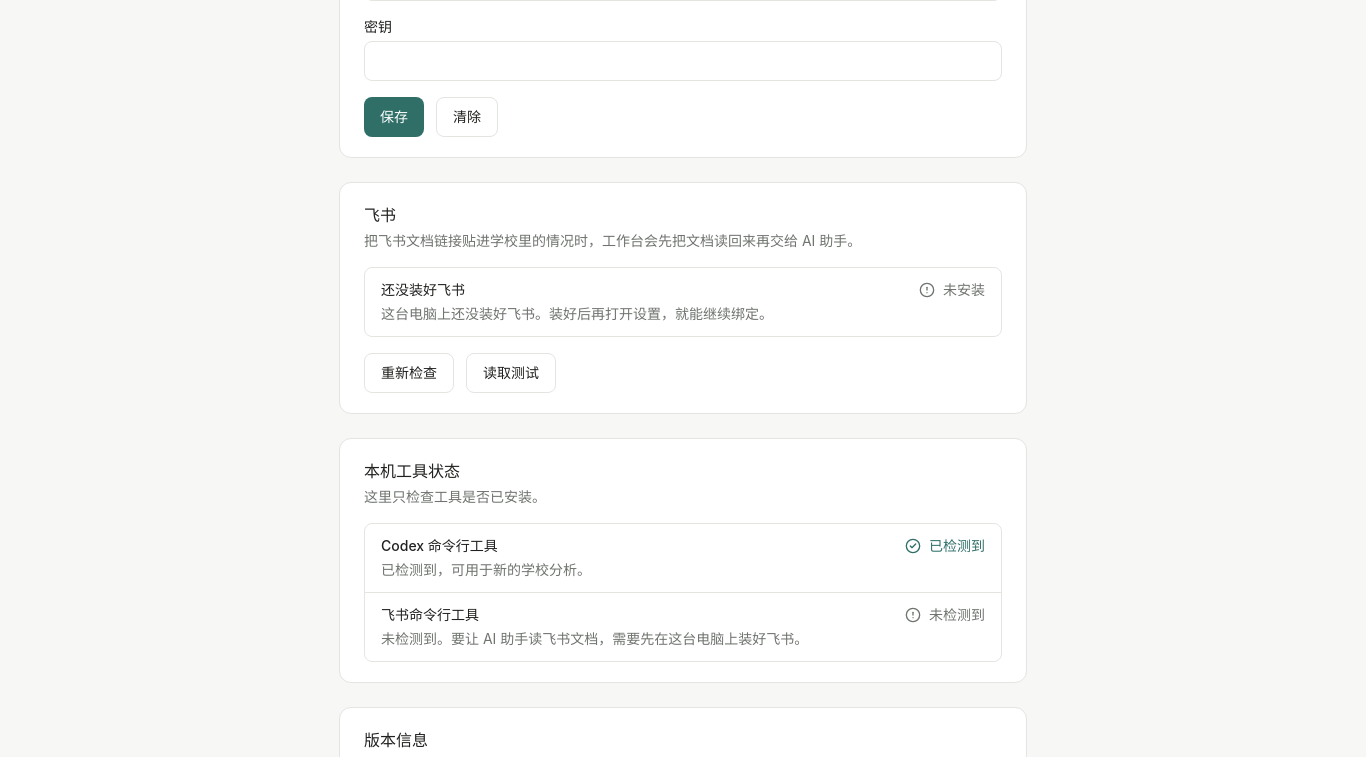
Test: the Feishu block in settings › reads a pasted link and says the title
The width and height of the screenshot is (1366, 757).
(page scrolled)
Click the button "读取测试": click(511, 373) [466, 353, 556, 393]
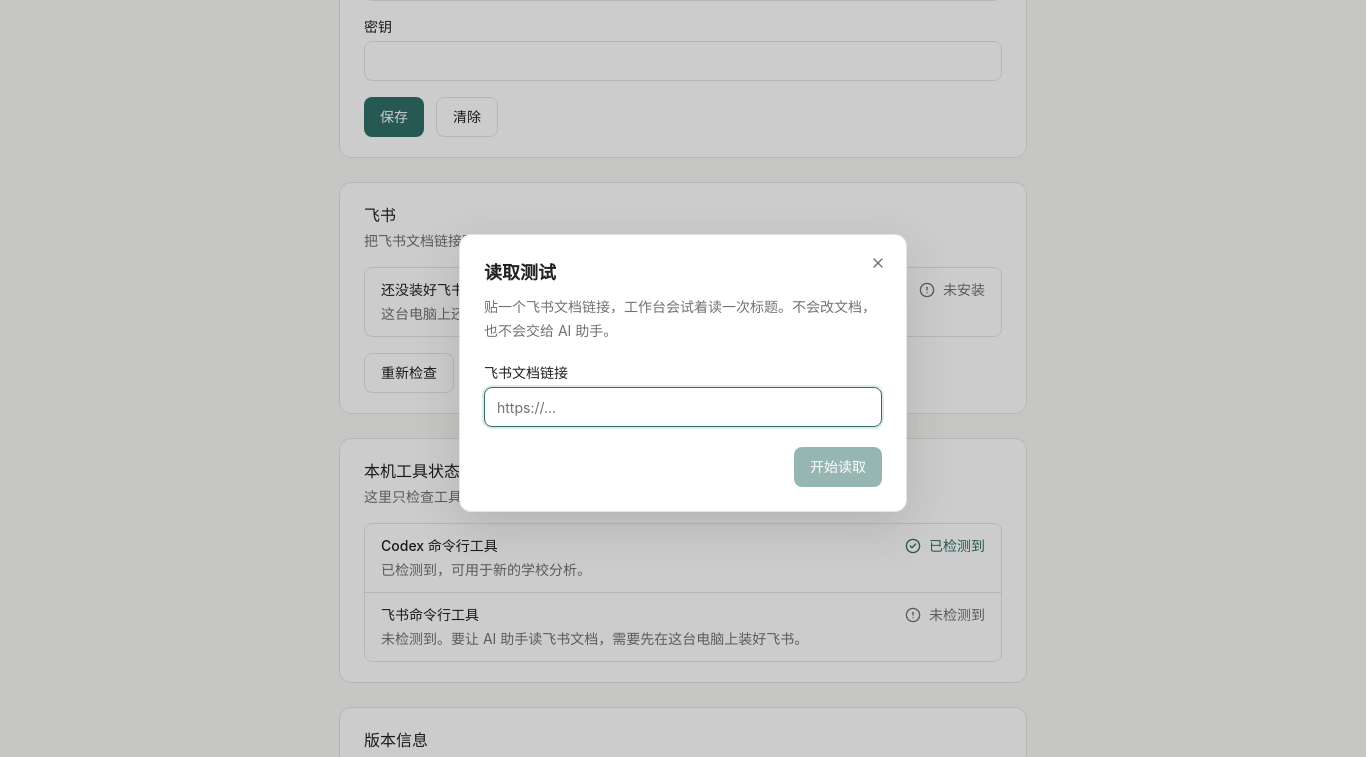
In the field labelled "飞书文档链接": (683, 407) [484, 387, 882, 427], type "https://sample.feishu.cn/docx/Abc"
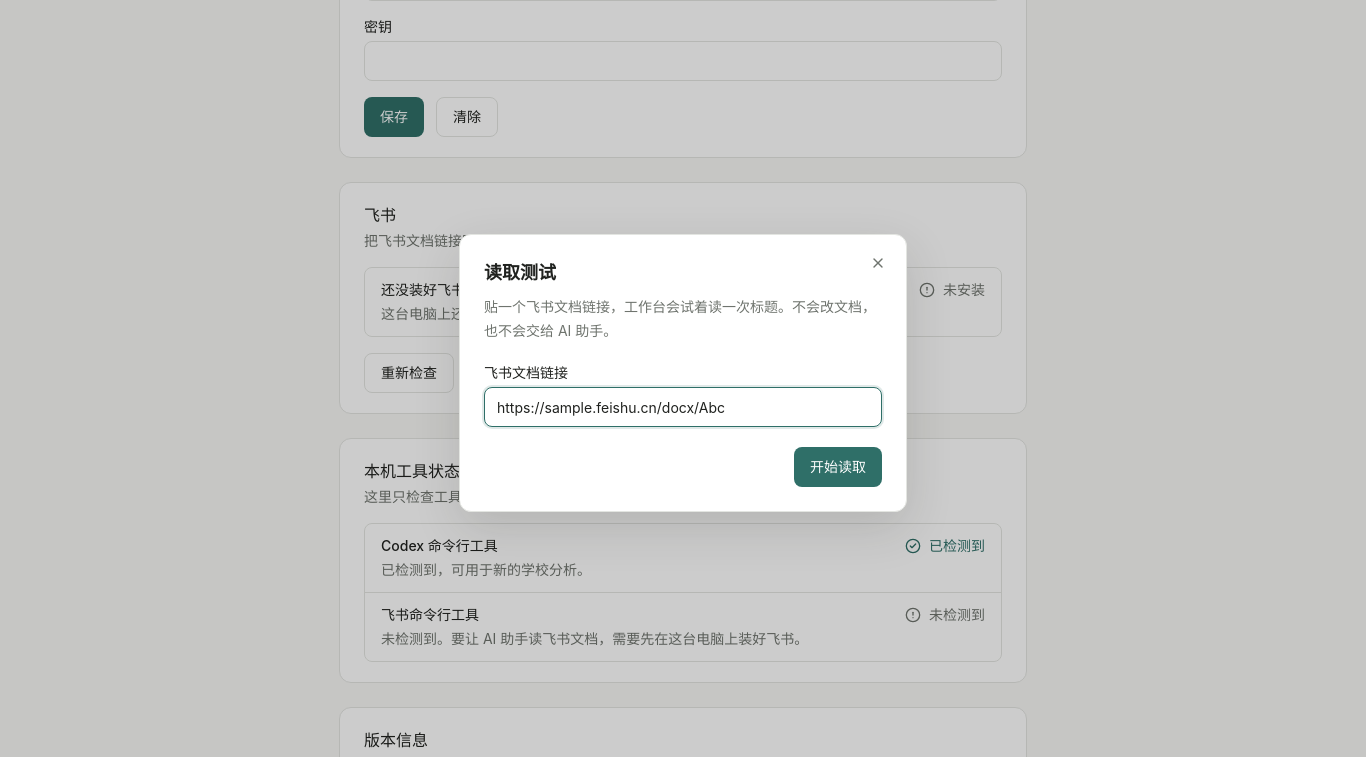
Click the button "开始读取": click(838, 467) [794, 447, 882, 487]
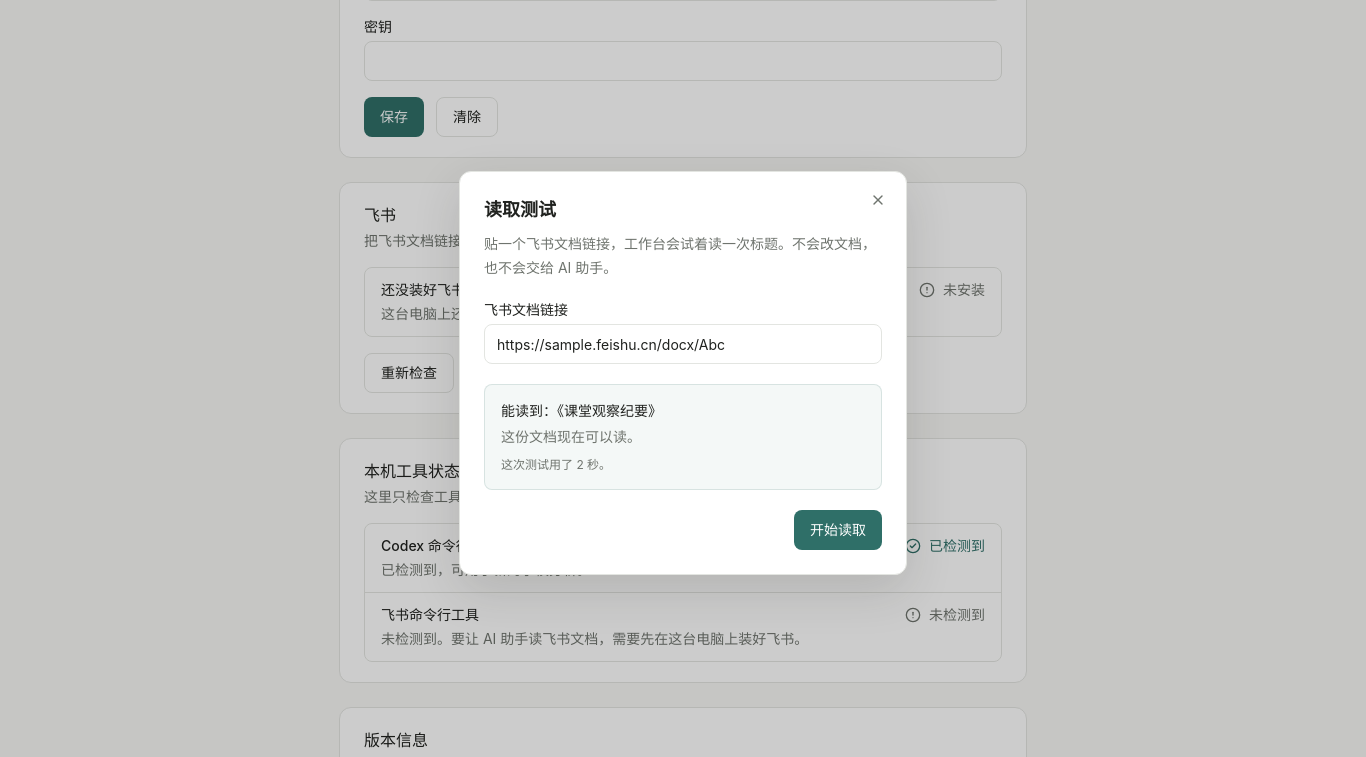
Check: the text "能读到：《课堂观察纪要》" is shown, box [501, 402, 662, 419]
